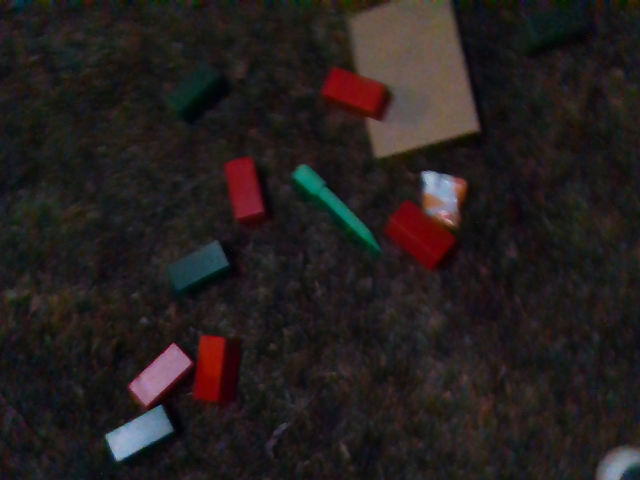Probe: (288, 157, 386, 253)
